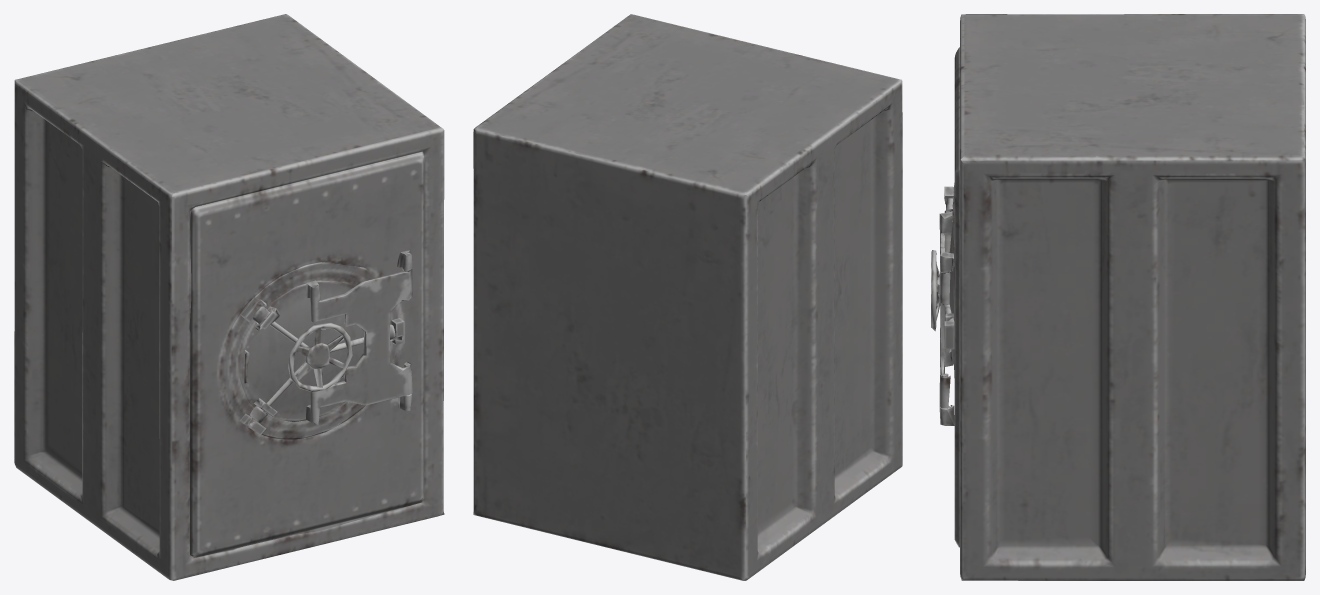
Rendered from Vault.glb.
3 views of the same model, side by side, from view 1: azimuth 30°, elevation 25°; view 2: azimuth 150°, elevation 25°; view 3: azimuth 270°, elevation 25° (orthographic). The views are drawn at different scales.
Visible parts, largest first — view 1: vault; view 2: vault; view 3: vault.
Boxes of the visible parts, box(x1,y1,x2,y2) form: vault: box(14, 14, 444, 580); vault: box(473, 14, 902, 580); vault: box(931, 14, 1305, 580).
Size of the model in its own units: 2.02 by 2.73 by 2.19.
Materials: 1 (1 with a texture image).
